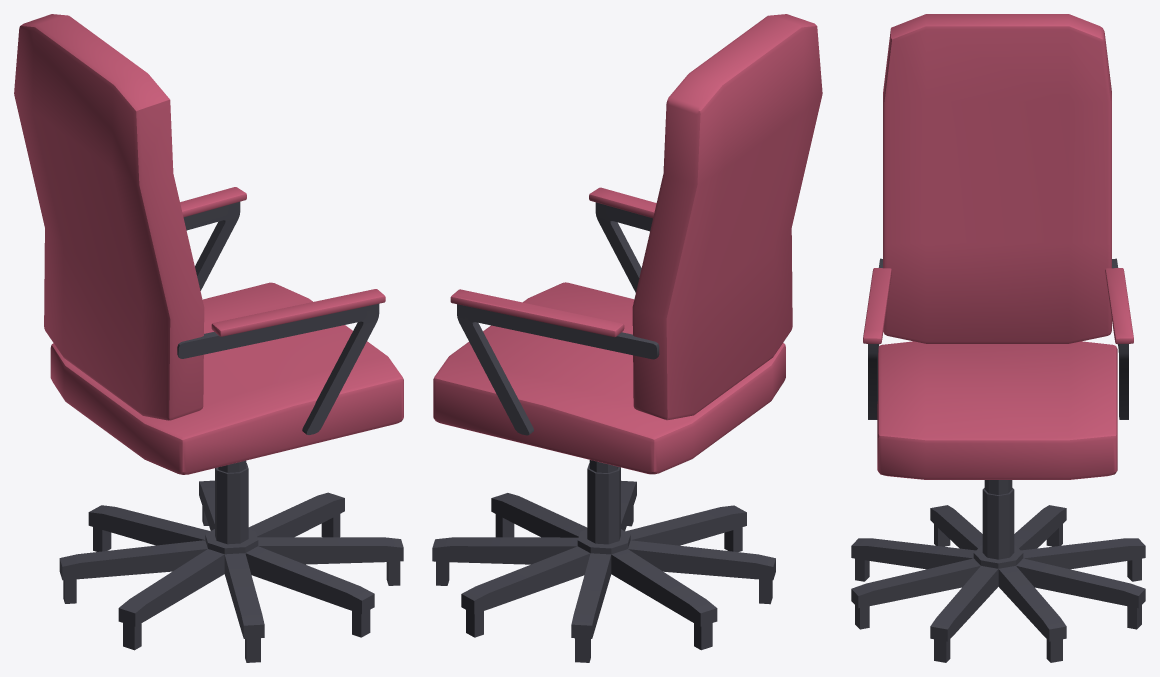
File: MP_OfficeChair.fbx
The picture shows the model from 3 angles, left to right: view 1: azimuth 30°, elevation 25°; view 2: azimuth 150°, elevation 25°; view 3: azimuth 270°, elevation 25°; orthographic projection. The views are drawn at different scales.
Visible parts, largest first — view 1: OfficeChair_Back, OfficeChair_Seat, OfficeChair_Cylinder, OfficeChair_Armrests; view 2: OfficeChair_Back, OfficeChair_Seat, OfficeChair_Cylinder, OfficeChair_Armrests; view 3: OfficeChair_Back, OfficeChair_Seat, OfficeChair_Cylinder, OfficeChair_Armrests.
Boxes of the visible parts, left/top/right/bottom form: OfficeChair_Back: left=14, top=14, right=204, bottom=420; OfficeChair_Seat: left=50, top=282, right=403, bottom=474; OfficeChair_Cylinder: left=59, top=460, right=403, bottom=662; OfficeChair_Armrests: left=177, top=187, right=385, bottom=434; OfficeChair_Back: left=632, top=14, right=822, bottom=420; OfficeChair_Seat: left=433, top=282, right=785, bottom=474; OfficeChair_Cylinder: left=432, top=460, right=775, bottom=662; OfficeChair_Armrests: left=450, top=187, right=659, bottom=435; OfficeChair_Back: left=883, top=14, right=1111, bottom=343; OfficeChair_Seat: left=877, top=341, right=1117, bottom=479; OfficeChair_Cylinder: left=851, top=480, right=1145, bottom=662; OfficeChair_Armrests: left=863, top=258, right=1133, bottom=419.
Size of the model in its own units: 69.79 by 128 by 65.44.
